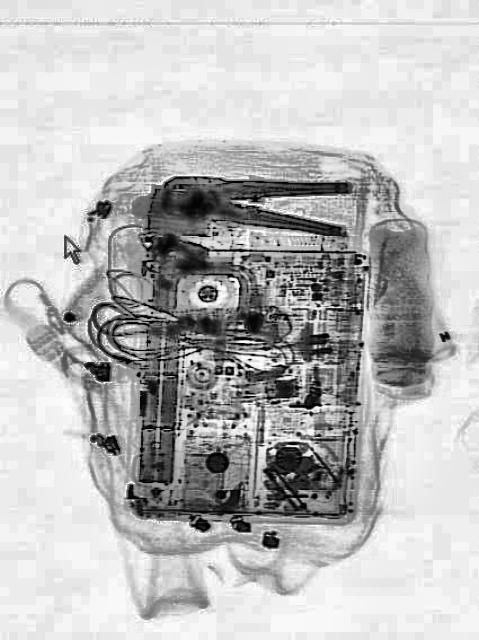Pliers: (158, 163, 350, 237)
